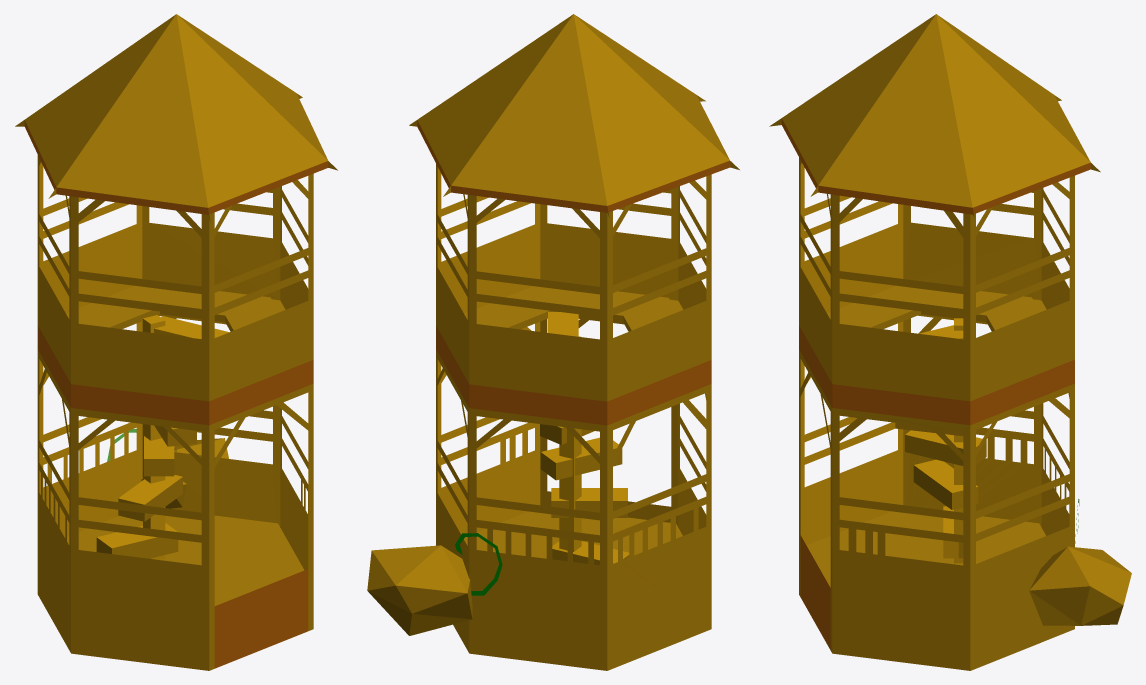
The model's file is SummerHouse.gltf.
3 views of the same model, side by side, from view 1: azimuth 30°, elevation 25°; view 2: azimuth 150°, elevation 25°; view 3: azimuth 270°, elevation 25° (orthographic).
Visible parts, largest first — view 1: Mesh2636_Component_6_1_Model; view 2: Mesh2636_Component_6_1_Model; view 3: Mesh2636_Component_6_1_Model.
Boxes of the visible parts, <box> form: Mesh2636_Component_6_1_Model: <box>15,14,337,670</box>; Mesh2636_Component_6_1_Model: <box>367,14,739,670</box>; Mesh2636_Component_6_1_Model: <box>769,14,1131,670</box>.
Size of the model in its own units: 1003 by 1952 by 1074.
